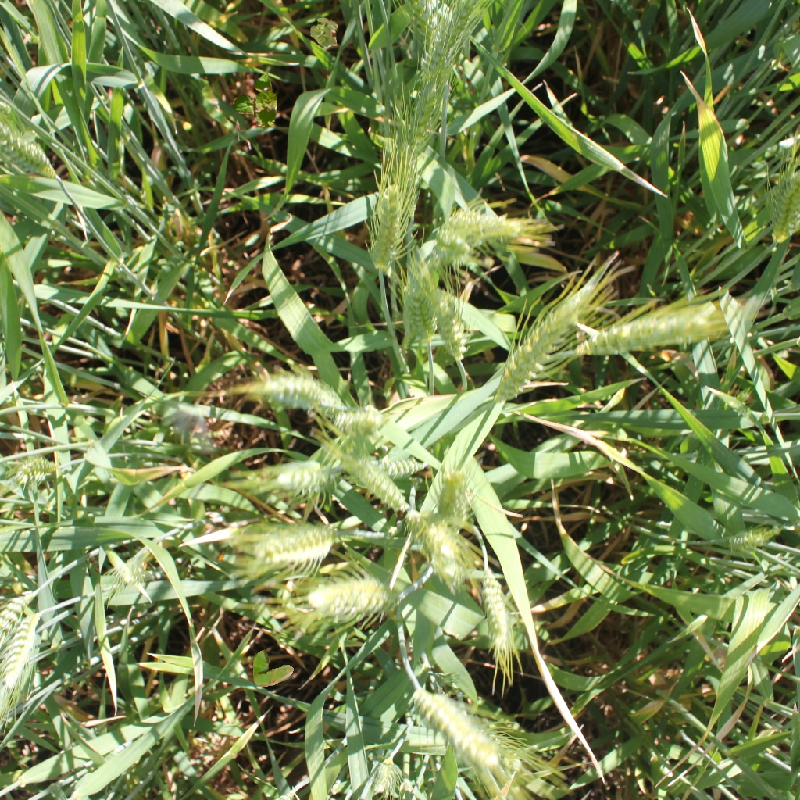spikelet: (489, 278, 599, 403), (407, 686, 509, 769), (576, 301, 724, 357), (255, 367, 348, 416), (301, 571, 393, 620), (366, 177, 412, 274), (248, 518, 341, 565), (340, 452, 410, 513), (476, 567, 524, 655), (414, 1, 463, 87), (1, 608, 47, 694), (439, 205, 529, 247), (418, 518, 470, 582), (262, 456, 343, 497), (1, 117, 55, 177), (399, 273, 438, 356), (430, 289, 470, 363), (330, 400, 389, 449), (429, 465, 472, 528), (767, 164, 799, 244), (1, 449, 63, 488), (1, 586, 35, 650), (721, 521, 782, 555), (430, 227, 475, 266), (369, 755, 402, 798), (306, 12, 341, 50), (378, 452, 424, 477)
weed: (233, 73, 277, 127), (253, 649, 294, 687), (310, 17, 338, 48)
